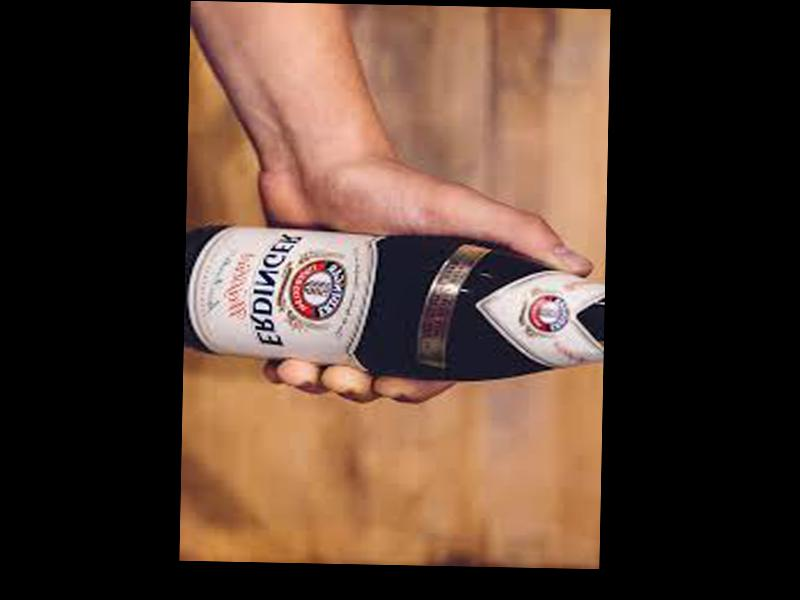Beer: (182, 222, 601, 383)
